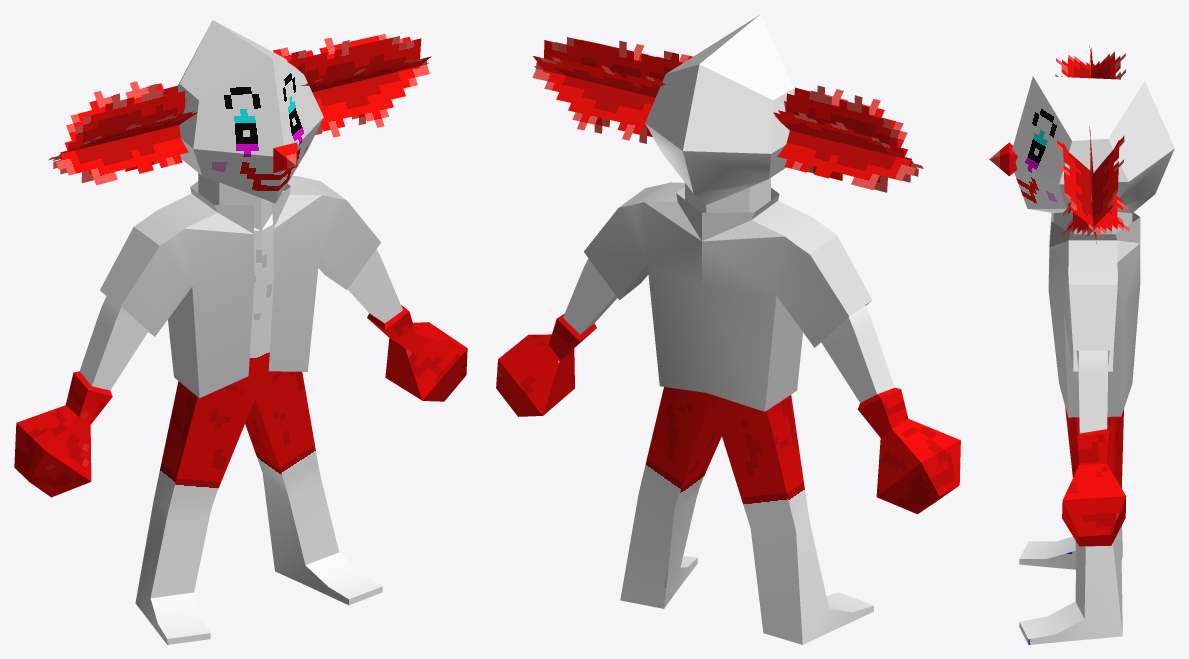
Rendered from Palhaço1.glb.
3 renders of one model, left to right at view 1: azimuth 30°, elevation 25°; view 2: azimuth 150°, elevation 25°; view 3: azimuth 270°, elevation 25°, orthographic. The views are drawn at different scales.
Visible parts, largest first — view 1: Personagem1; view 2: Personagem1; view 3: Personagem1.
Boxes of the visible parts, x1,y1,x2,y2 form: Personagem1: (14, 20, 467, 644); Personagem1: (496, 14, 960, 644); Personagem1: (989, 45, 1174, 644).
Bounding box in the file's own units: 1.26 × 1.53 × 0.4965.
3 materials, 2 textured.
